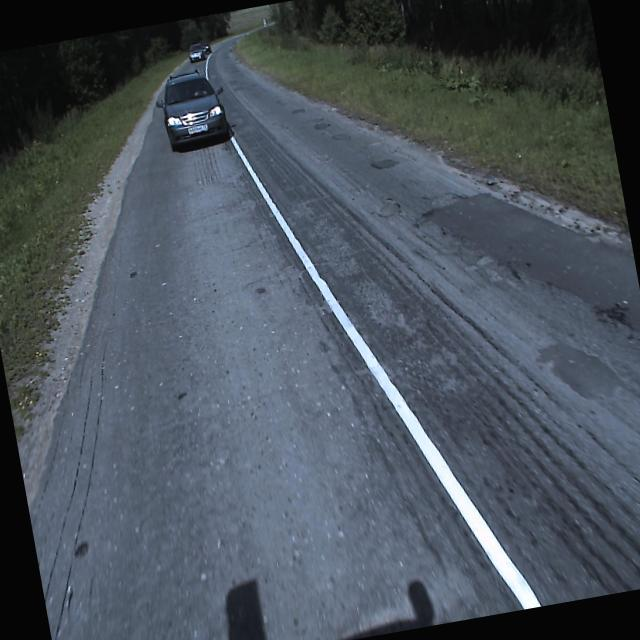road: (28, 36, 640, 640), (158, 87, 164, 102)
